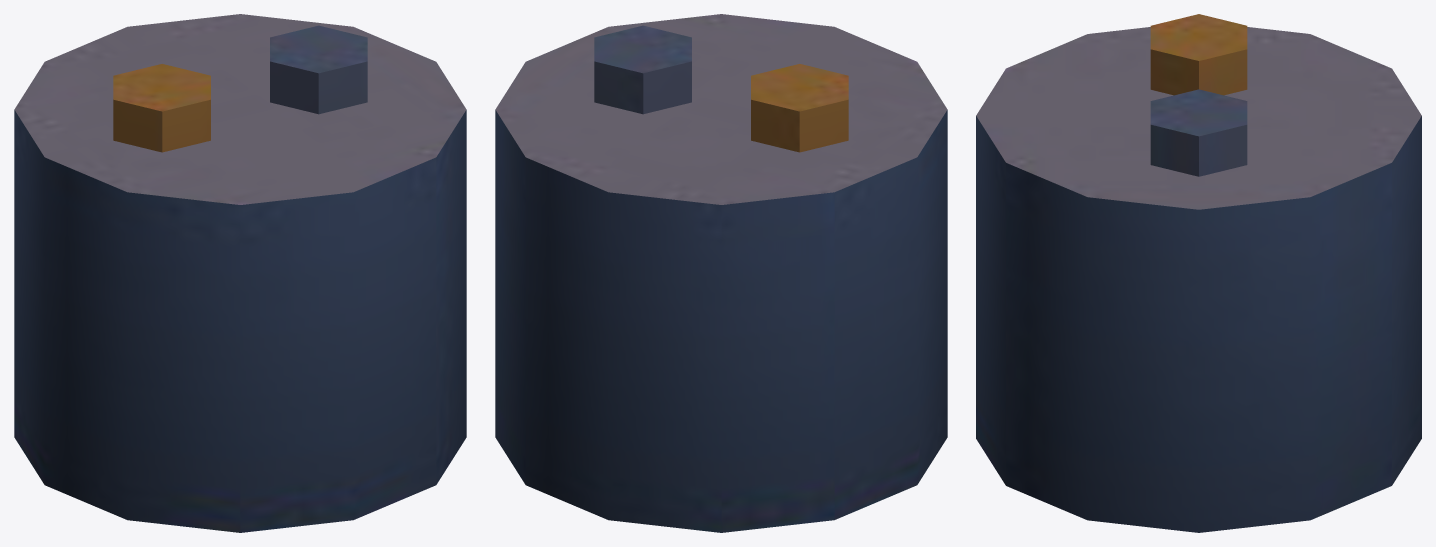
The model's file is supercapacitor.glb.
3 views of the same model, side by side, from view 1: azimuth 30°, elevation 25°; view 2: azimuth 150°, elevation 25°; view 3: azimuth 270°, elevation 25° (orthographic).
Visible parts, largest first — view 1: supercapacitor; view 2: supercapacitor; view 3: supercapacitor.
Part boxes in pixels (bbox=[...]): supercapacitor: bbox=[14, 14, 466, 532]; supercapacitor: bbox=[495, 14, 947, 532]; supercapacitor: bbox=[976, 14, 1421, 532].
Size of the model in its own units: 0.2 by 0.18 by 0.2.
Materials: 1 (1 with a texture image).
